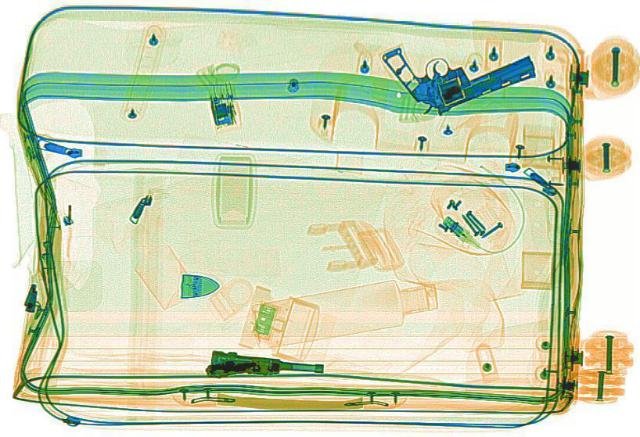Gun: (368, 11, 546, 118), (202, 347, 324, 385)
